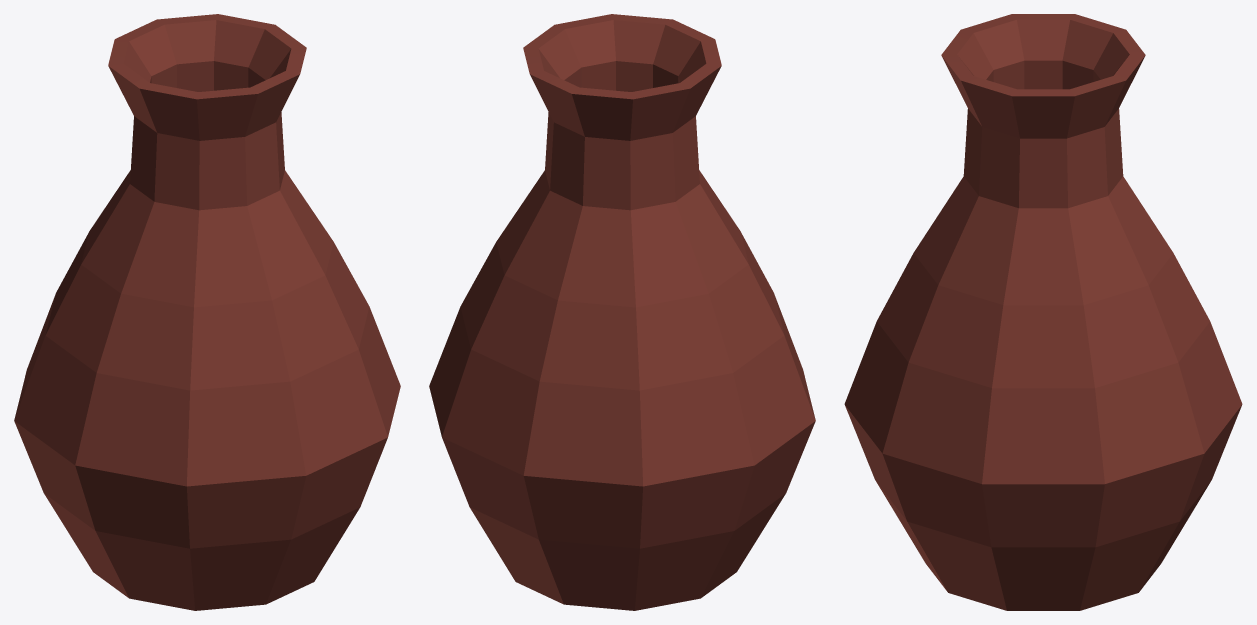
File: Vase overlay.obj
3 renders of one model, left to right at view 1: azimuth 30°, elevation 25°; view 2: azimuth 150°, elevation 25°; view 3: azimuth 270°, elevation 25°, orthographic.
Parts seen in each view (by area): view 1: Overlay; view 2: Overlay; view 3: Overlay.
Part boxes in pixels (box(x1,y1,x2,y2)): Overlay: box(14, 14, 400, 610); Overlay: box(429, 14, 815, 610); Overlay: box(844, 14, 1242, 610).
Size of the model in its own units: 0.4114 by 0.6105 by 0.4326.
